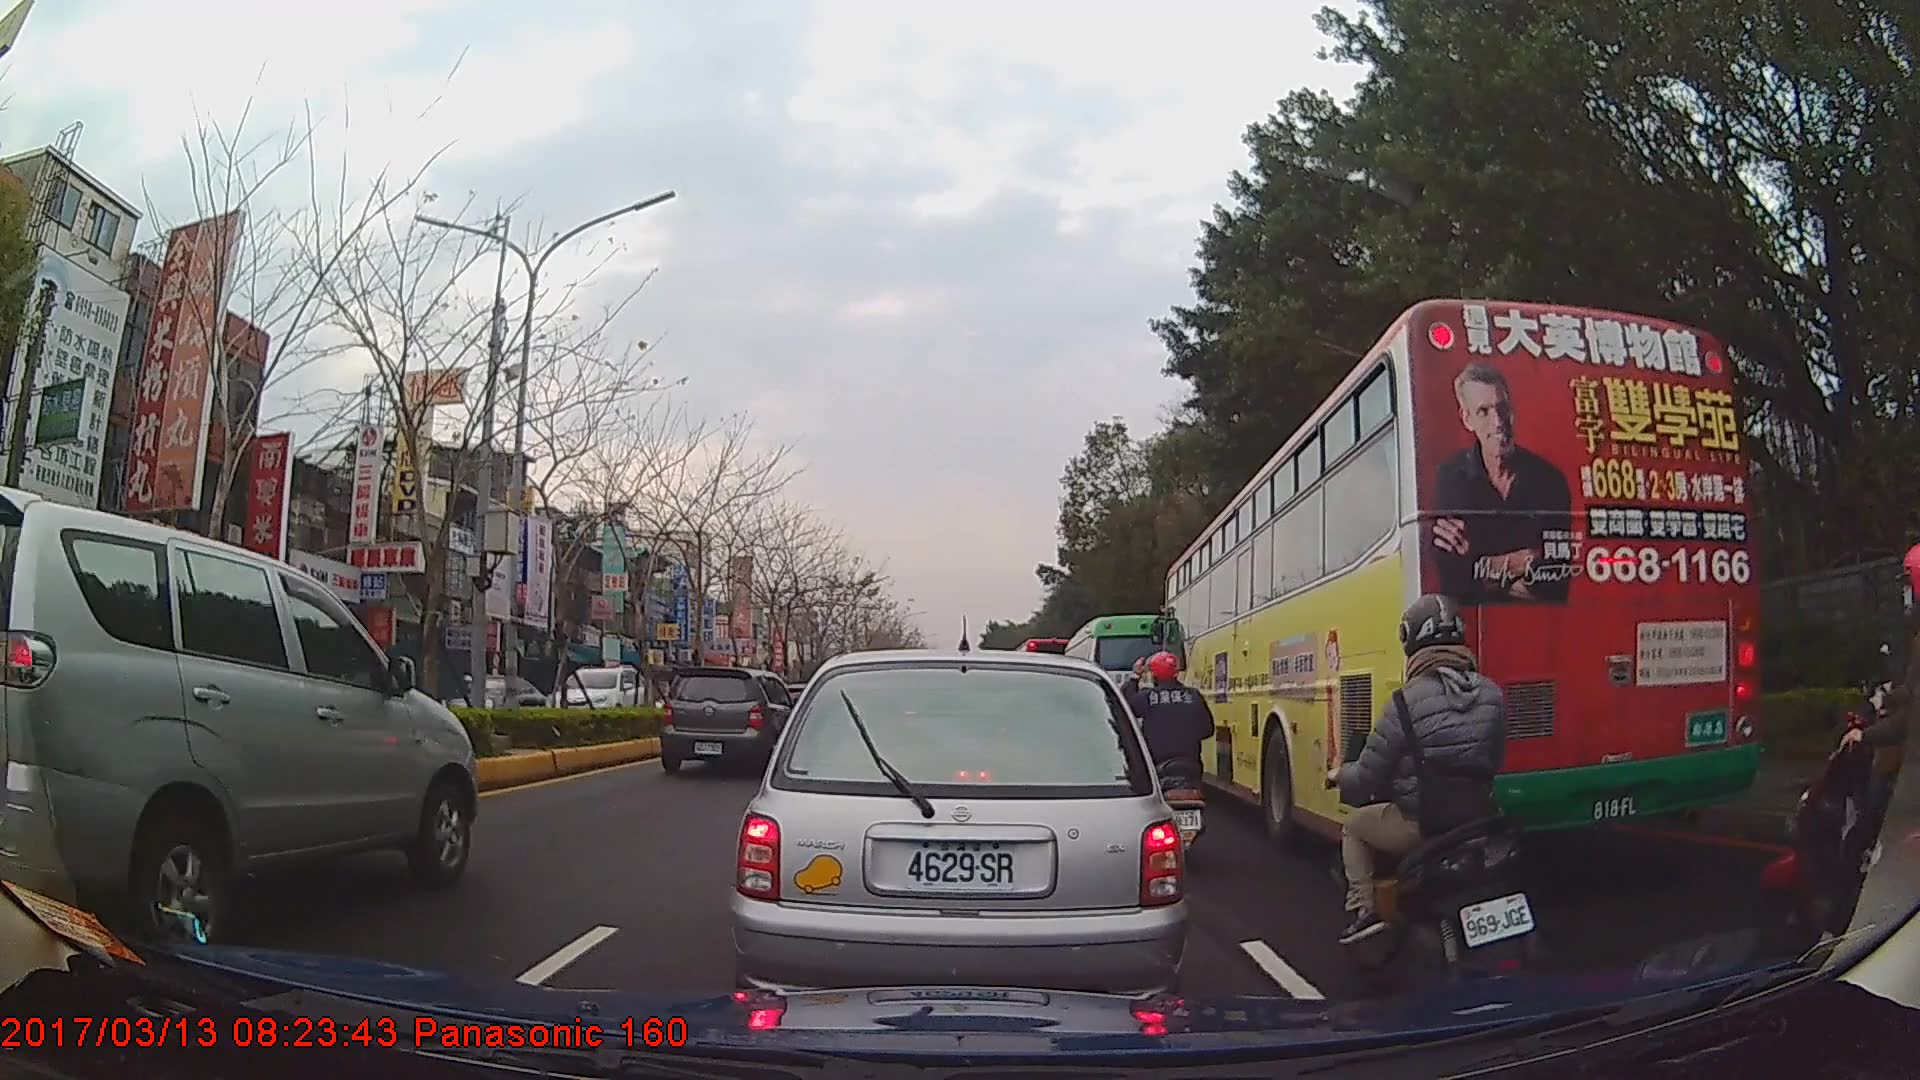rider: (1326, 588, 1536, 1009), (1745, 548, 1918, 967), (1825, 573, 1920, 885), (1118, 651, 1216, 857)
vehicle: (1160, 296, 1763, 862), (7, 485, 480, 953), (731, 646, 1187, 1020), (1058, 613, 1188, 765), (659, 668, 797, 778), (545, 663, 651, 732), (434, 670, 539, 737)
